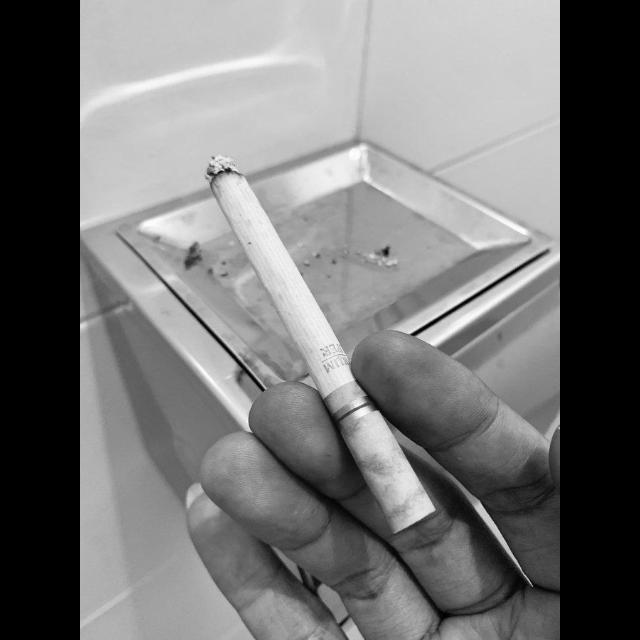rokok: (198, 144, 438, 530)
